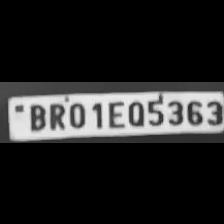0: (65, 100, 87, 130)
1: (89, 100, 106, 128)
3: (164, 97, 184, 125), (204, 97, 222, 125)
5: (144, 96, 164, 124)
6: (183, 97, 203, 125)
B: (26, 102, 46, 131)
E: (104, 100, 124, 128)
Q: (124, 98, 146, 126)
R: (46, 100, 66, 130)
